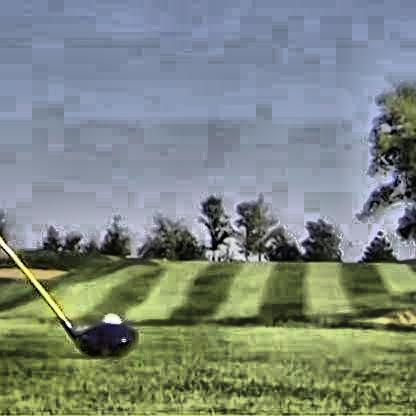golfball: (98, 312, 123, 336)
